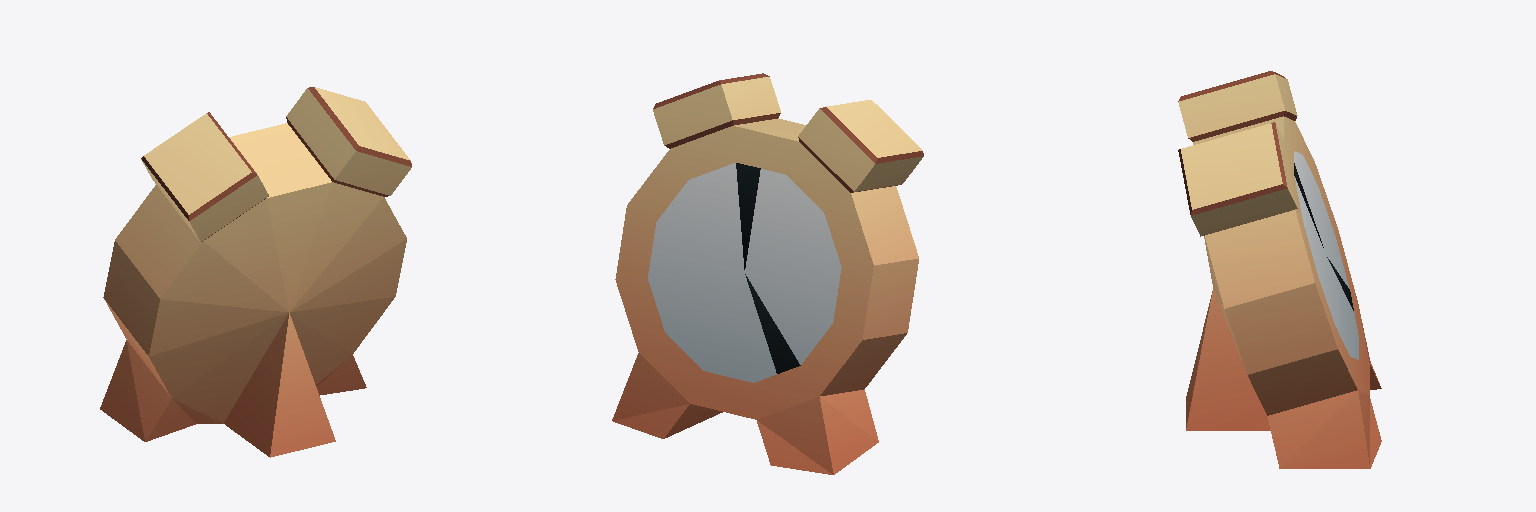
The picture shows the model from 3 angles: view 1: azimuth 30°, elevation 25°; view 2: azimuth 150°, elevation 25°; view 3: azimuth 270°, elevation 25°; orthographic projection.
Visible parts, largest first — view 1: cylinder; view 2: cylinder; view 3: cylinder.
Boxes of the visible parts, <box> form: cylinder: <box>100,87,411,457</box>; cylinder: <box>612,73,923,474</box>; cylinder: <box>1178,71,1381,468</box>.
Bounding box in the file's own units: 0.375 × 0.4616 × 0.2678.
1 materials, 1 textured.